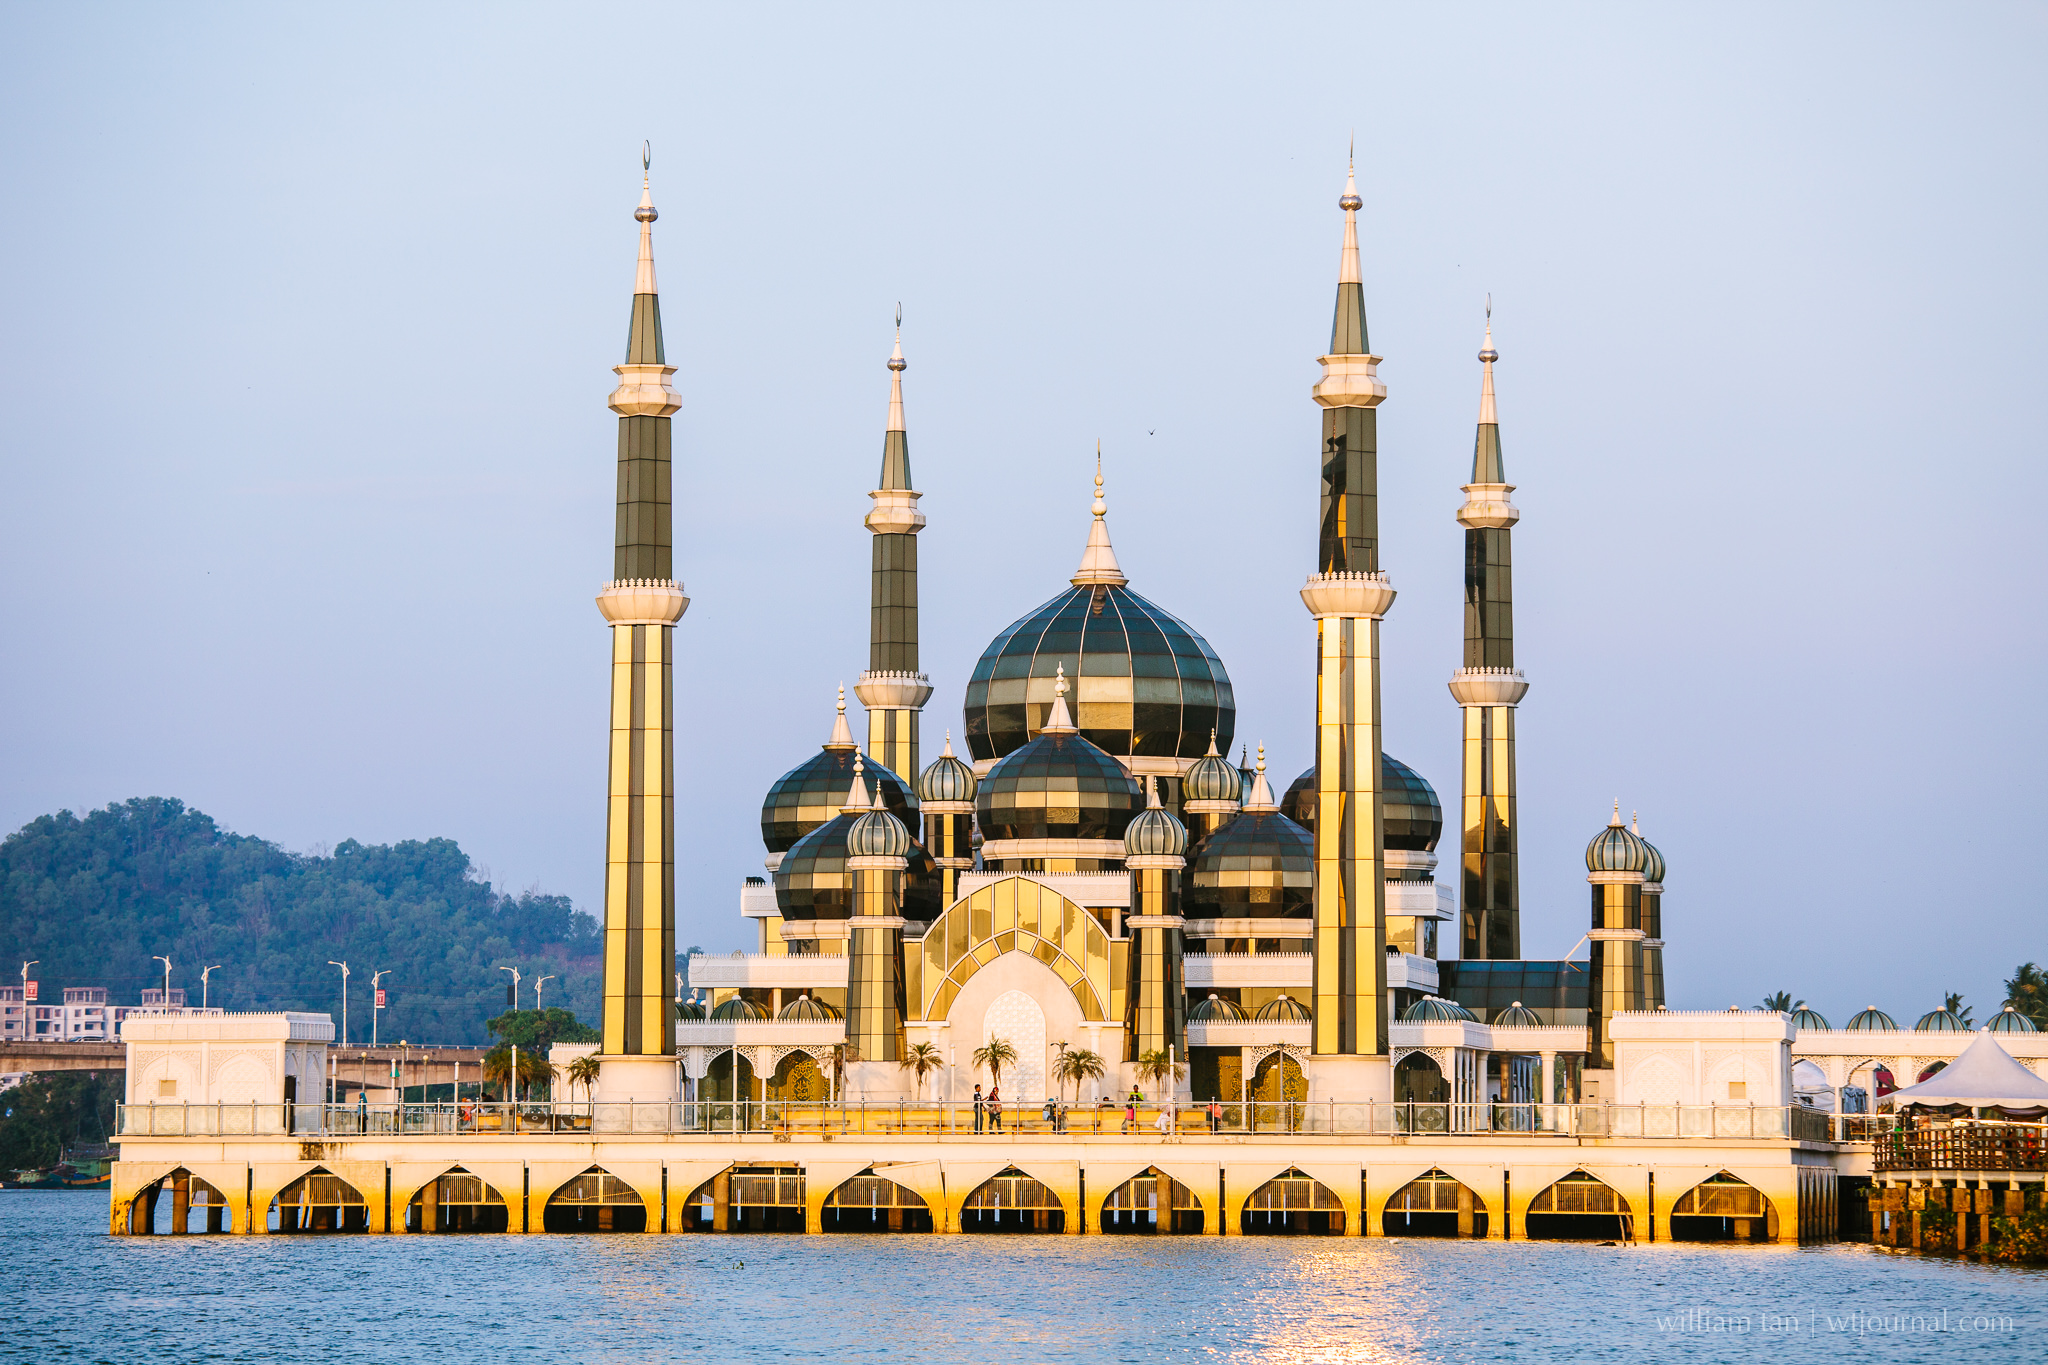Mosque: (492, 146, 1623, 1232)
